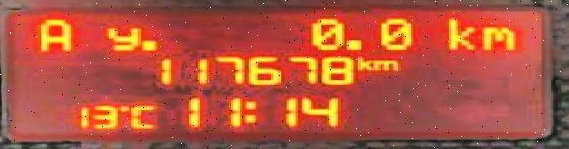-: (137, 37, 162, 52), (344, 36, 364, 50)
0: (375, 17, 411, 51), (306, 16, 344, 48)
1: (184, 95, 202, 131), (280, 95, 298, 129), (155, 56, 173, 87), (224, 95, 239, 130), (193, 54, 206, 87), (73, 103, 88, 131)
3: (91, 102, 115, 128)
4: (298, 94, 338, 127)
6: (244, 53, 279, 86)
7: (211, 54, 244, 85), (284, 54, 317, 84)
8: (320, 55, 351, 85)
X: (33, 15, 71, 52), (477, 22, 515, 51), (444, 15, 475, 49), (104, 23, 137, 51), (128, 102, 155, 128), (242, 97, 260, 126), (371, 57, 397, 72), (353, 53, 371, 72)
